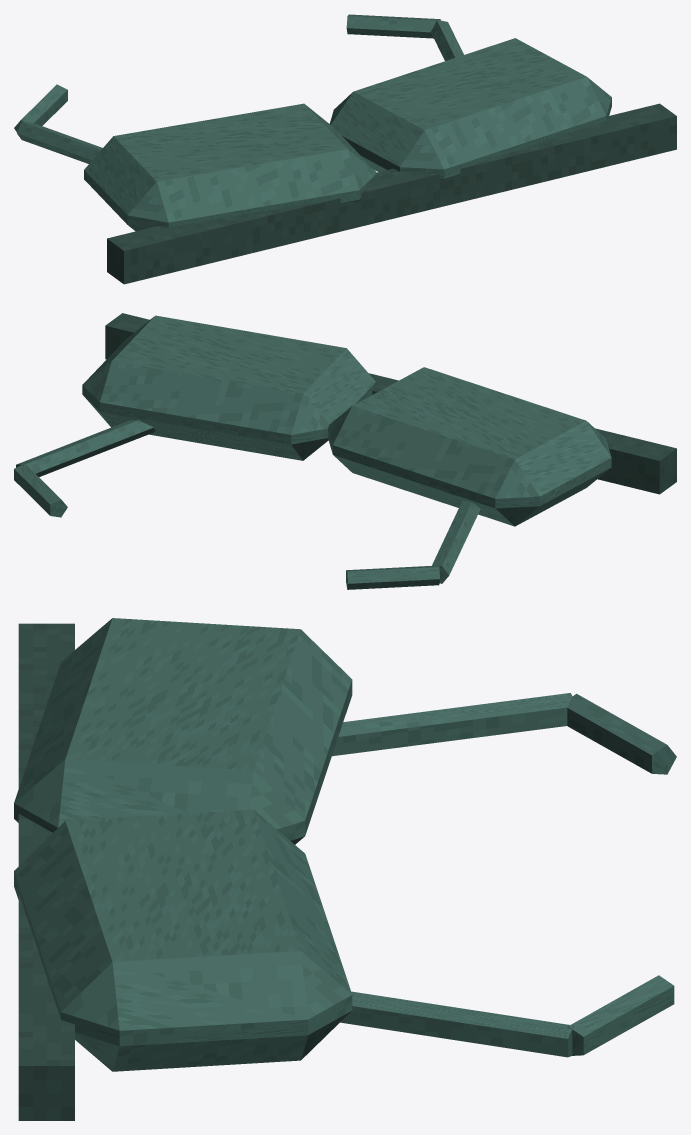
File: sports_bra.glb
3 views of the same model, one above another, from view 1: azimuth 30°, elevation 25°; view 2: azimuth 150°, elevation 25°; view 3: azimuth 270°, elevation 25° (orthographic). The views are drawn at different scales.
Visible parts, largest first — view 1: block_shaped cup (×2), block_underband, block_strap 1 (×2), block_strap 0 (×2); view 2: block_shaped cup (×2), block_underband, block_strap 0 (×2), block_strap 1 (×2); view 3: block_shaped cup (×2), block_strap 0 (×2), block_underband, block_strap 1 (×2).
Boxes of the visible parts, bbox=[...] form: block_shaped cup (×2): bbox=[84, 38, 611, 231]; block_underband: bbox=[107, 103, 676, 284]; block_strap 1 (×2): bbox=[14, 14, 440, 131]; block_strap 0 (×2): bbox=[17, 19, 463, 163]; block_shaped cup (×2): bbox=[82, 315, 611, 526]; block_underband: bbox=[105, 313, 676, 494]; block_strap 0 (×2): bbox=[16, 420, 480, 583]; block_strap 1 (×2): bbox=[14, 463, 439, 589]; block_shaped cup (×2): bbox=[14, 618, 352, 1071]; block_strap 0 (×2): bbox=[332, 693, 574, 1057]; block_underband: bbox=[18, 623, 74, 1120]; block_strap 1 (×2): bbox=[567, 693, 676, 1055].
Bounding box in the file's own units: 0.242 × 0.028 × 0.1533.
Materials: 1 (1 with a texture image).
